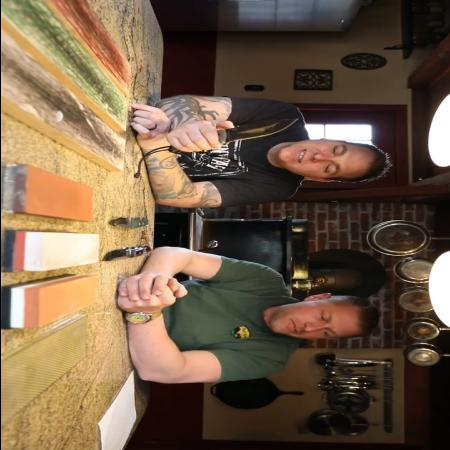long weapon: (183, 114, 308, 156)
